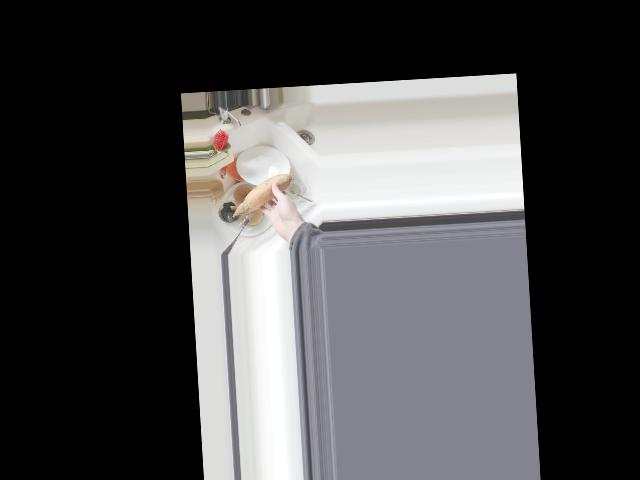sweet_potato: (231, 171, 294, 218)
